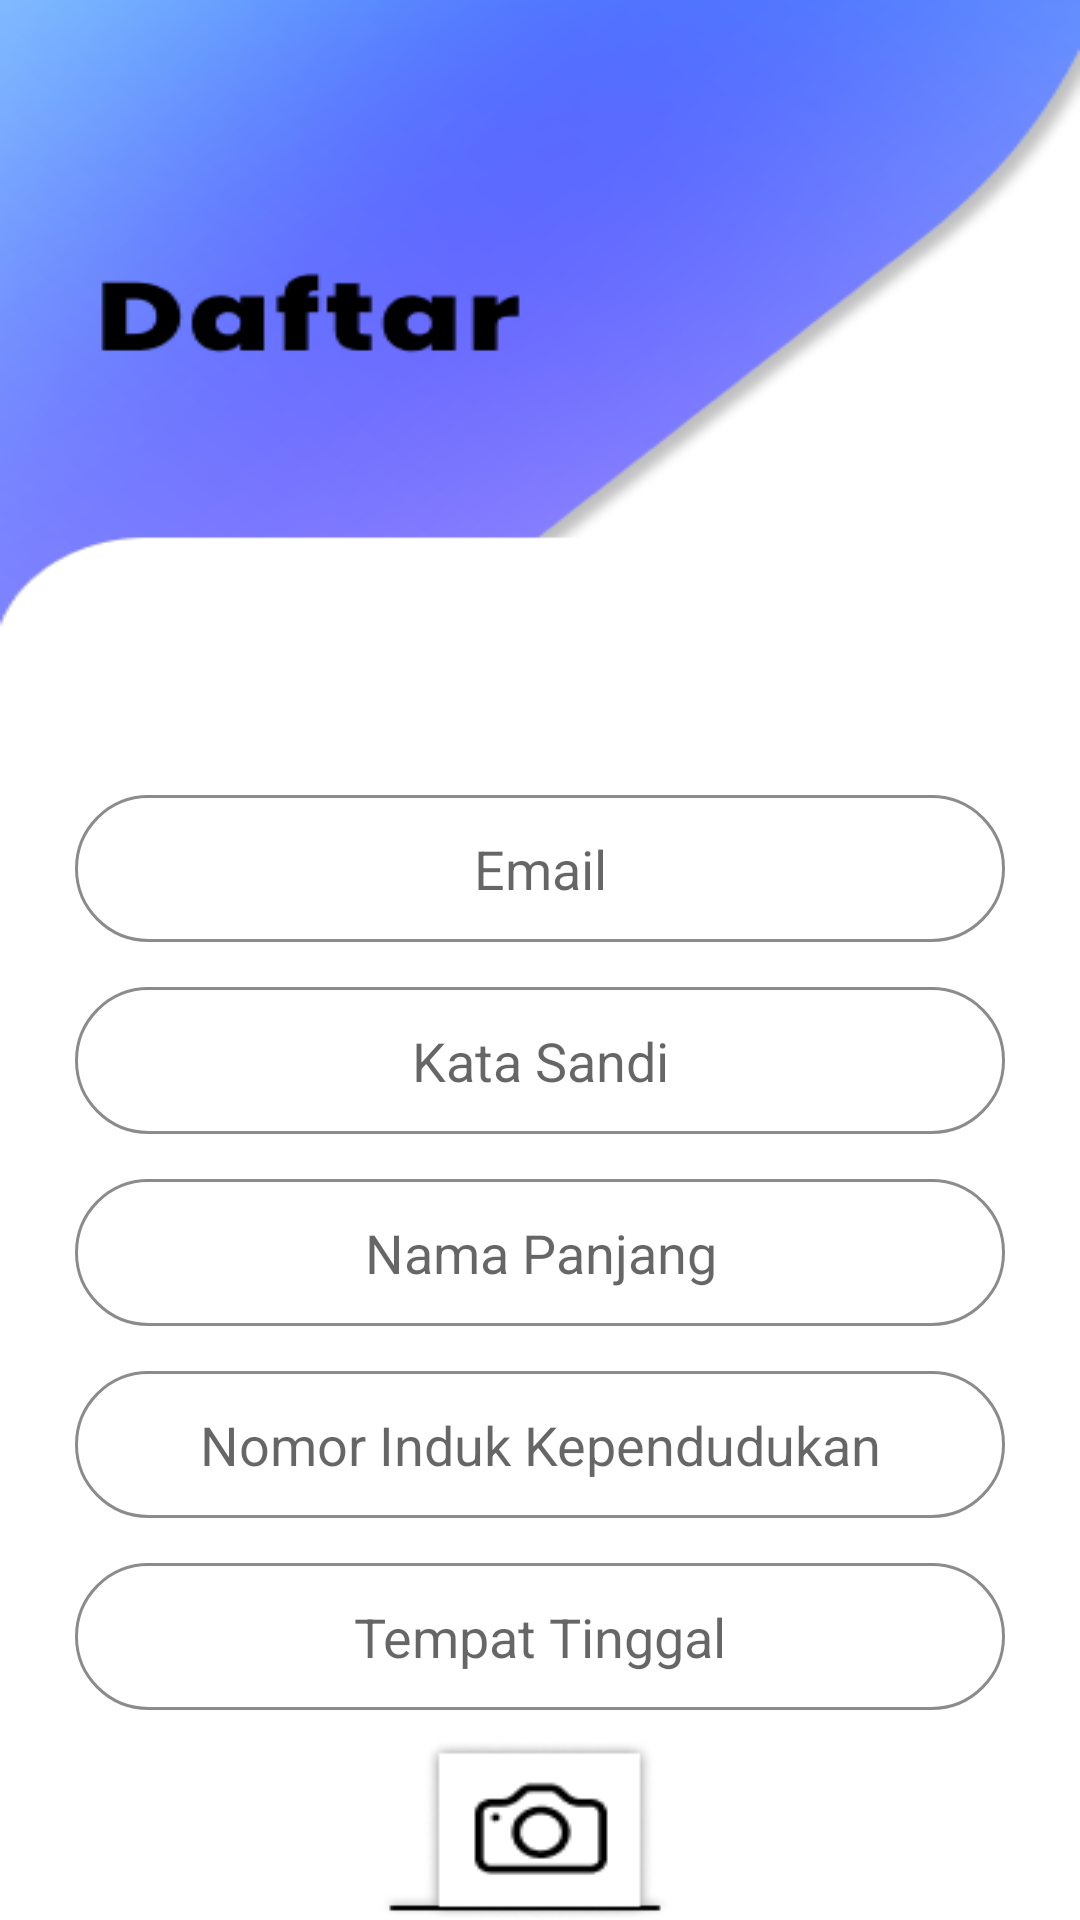

Point at icon controls on the screen. Image size 1080×1920, points as point (x, y).
camera: point (539, 1811)
